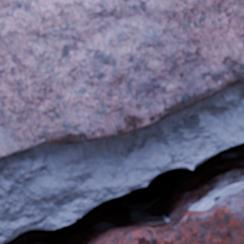brick: (0, 0, 243, 157)
broken_brick: (98, 188, 243, 243)
crack: (1, 142, 243, 243)
